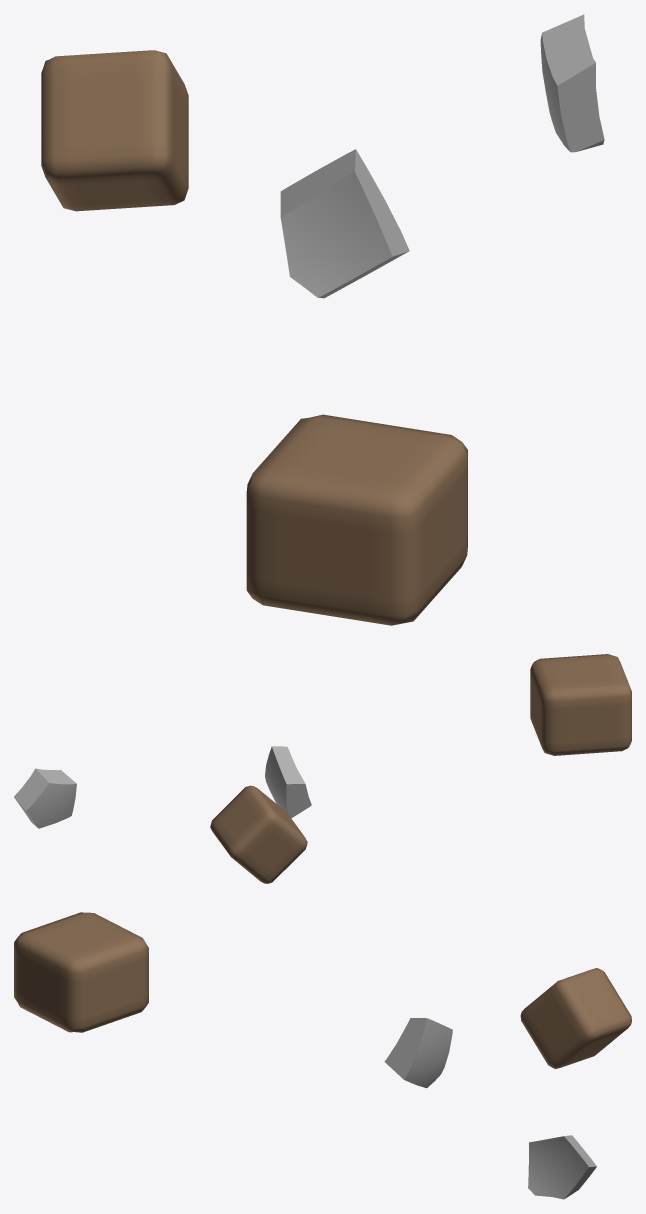
File: BrokenBottleBoys.fbx
The picture shows the model from 3 angles, top to bottom: view 1: azimuth 30°, elevation 25°; view 2: azimuth 150°, elevation 25°; view 3: azimuth 270°, elevation 25°; orthographic projection. The views are drawn at different scales.
Parts seen in each view (by area): view 1: Alchemy_Station:Stopper (×2), bottle1, bottle3; view 2: Alchemy_Station:Stopper (×2), bottle3, bottle1; view 3: Alchemy_Station:Stopper (×2), bottle3, bottle1.
Boxes of the visible parts, <box> form: Alchemy_Station:Stopper (×2): <box>41,50,467,625</box>; bottle1: <box>280,149,409,298</box>; bottle3: <box>540,14,604,152</box>; Alchemy_Station:Stopper (×2): <box>210,654,631,883</box>; bottle3: <box>14,768,76,828</box>; bottle1: <box>265,746,311,818</box>; Alchemy_Station:Stopper (×2): <box>14,912,631,1069</box>; bottle3: <box>528,1135,596,1199</box>; bottle1: <box>384,1018,452,1088</box>.
Size of the model in its own units: 5.99 by 1.31 by 7.33.
